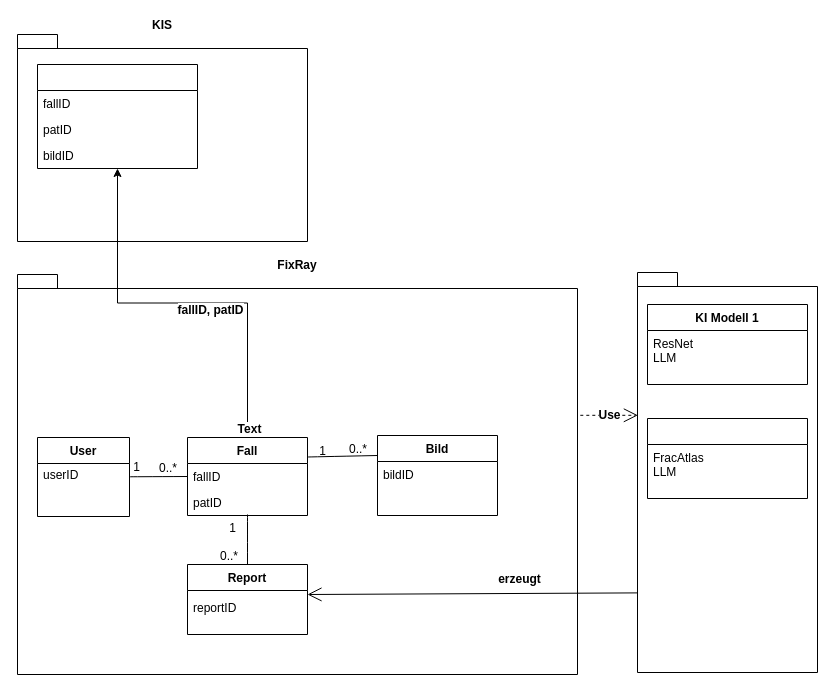
Image size: 835x692. Some labels were removed from this diagram. Each missing label, with the box of its shape:
KI: (636, 272, 818, 672)
KI Modell 2: (646, 418, 808, 498)
Patientenakte: (36, 64, 198, 168)
